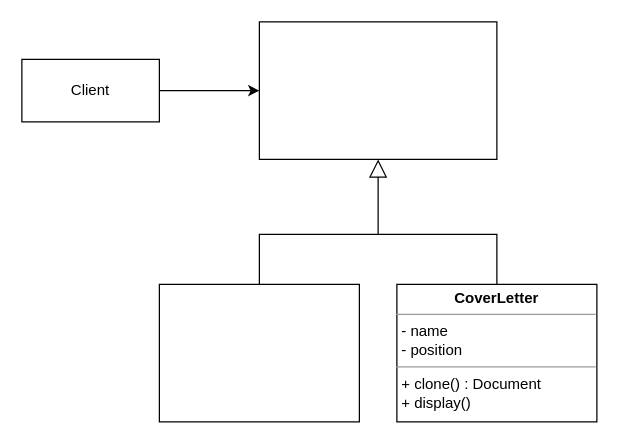
This 619x444 diagram has some shape labels left out. Each missing label, with the box of its shape:
<<Interface>> Document + display() + clone(): (258, 21, 497, 159)
Resume - name - experience + clone() : Document + display(): (158, 283, 359, 422)
